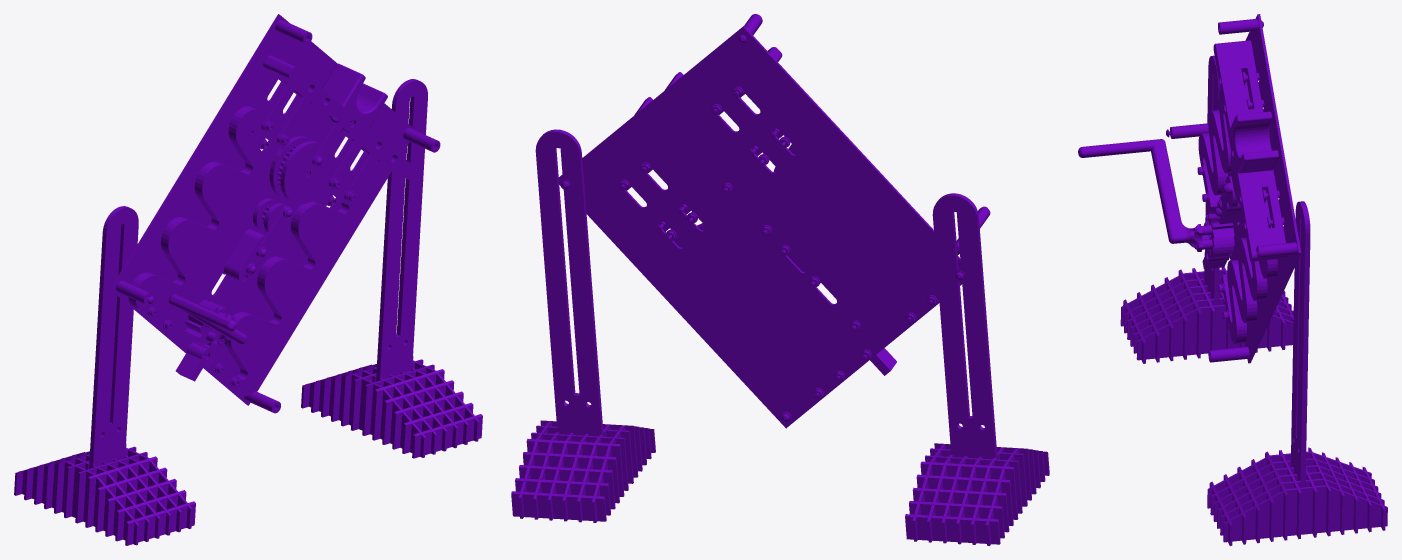
File: machineD_opt.glb
3 renders of one model, left to right at view 1: azimuth 30°, elevation 25°; view 2: azimuth 150°, elevation 25°; view 3: azimuth 270°, elevation 25°, orthographic. The views are drawn at different scales.
Parts seen in each view (by area): view 1: machine_d; view 2: machine_d; view 3: machine_d.
Part boxes in pixels (x1=…): machine_d: x1=14, y1=14, x2=482, y2=545; machine_d: x1=511, y1=14, x2=1049, y2=545; machine_d: x1=1078, y1=14, x2=1387, y2=545.
Size of the model in its own units: 3.68 by 3.63 by 2.3.
